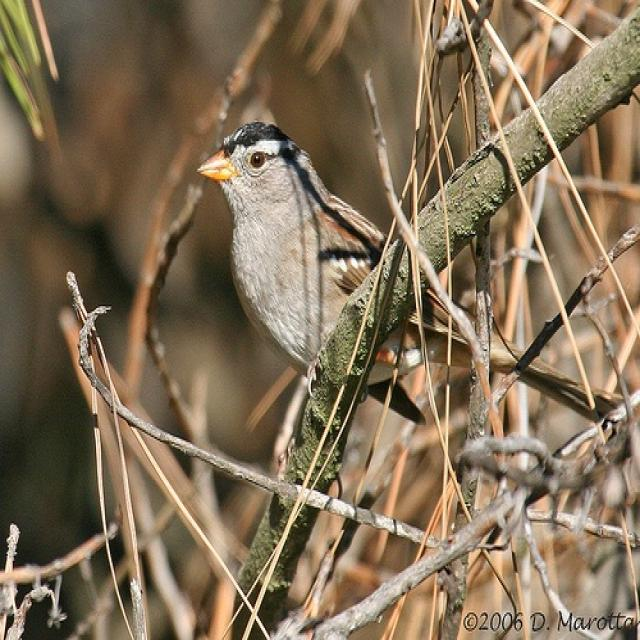bird: (196, 119, 612, 430)
